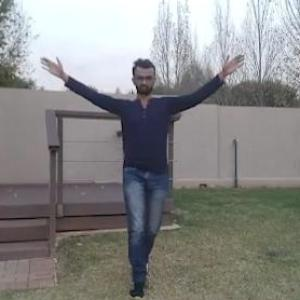takeoff: (38, 55, 238, 276)
